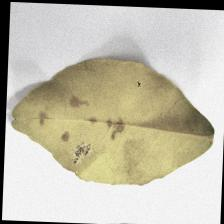black spot: (10, 82, 129, 160)
